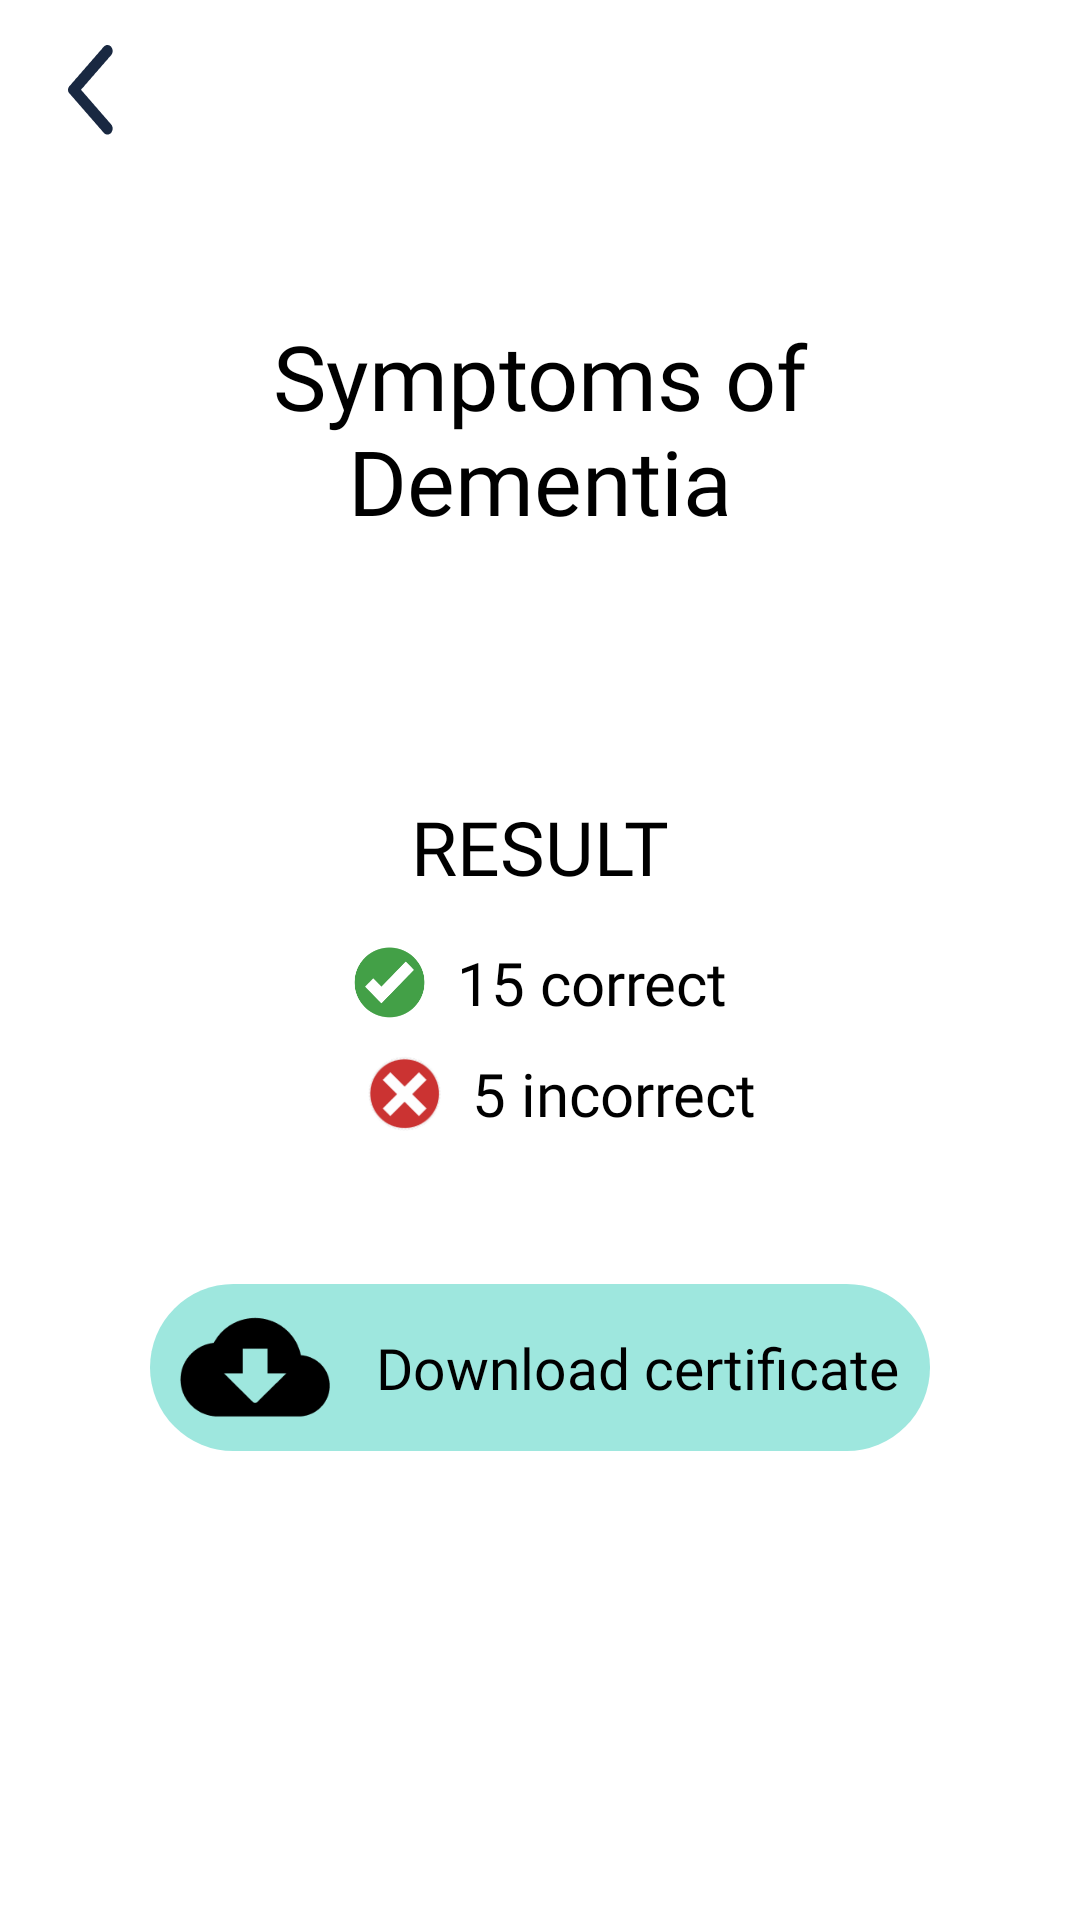

Named icons in this screenshot (1080 × 1920) and their centers, point (x, y):
backicon: point (90, 90)
cloud download rounded: point (255, 1367)
wrong answer: point (404, 1093)
